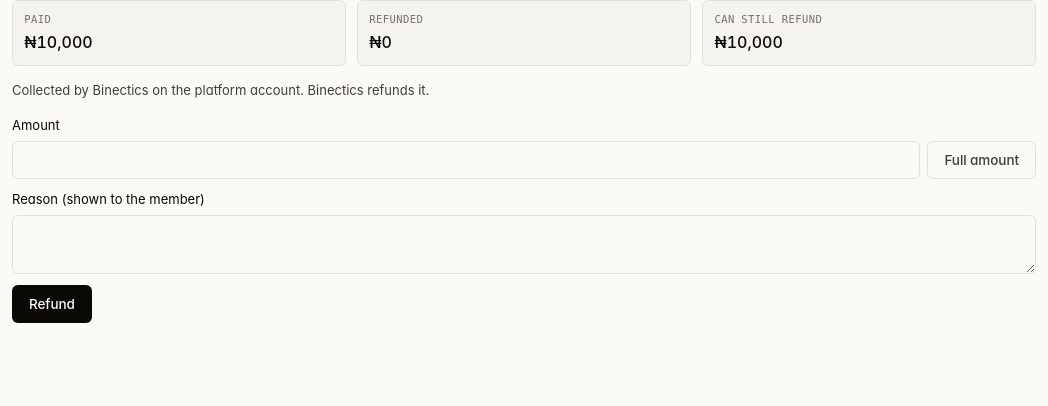
Test: ChargeRefundPanel: a direct refund asks first (owner ruling 6) › an admin refund of platform money sends without the provider's confirmation
Click the button "Full amount". click: [982, 160]
box: left=927, top=141, right=1036, bottom=179
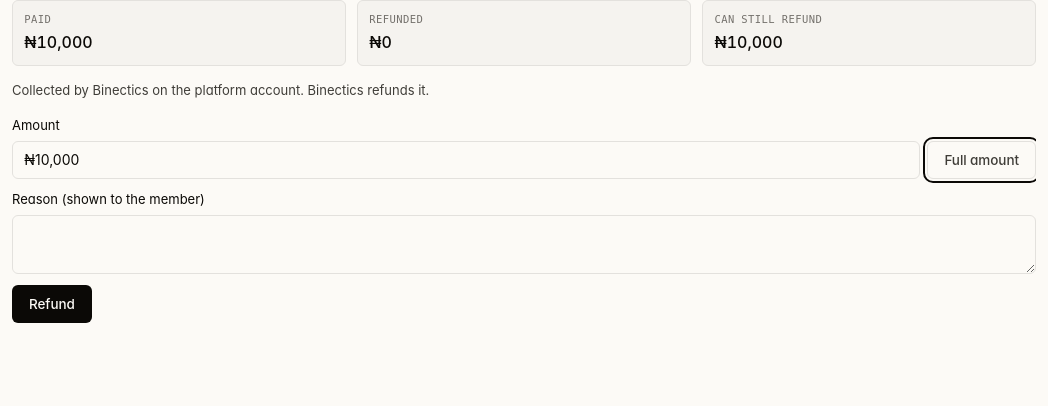
Double-click the button "Refund" at [52, 304], box left=12, top=285, right=92, bottom=323
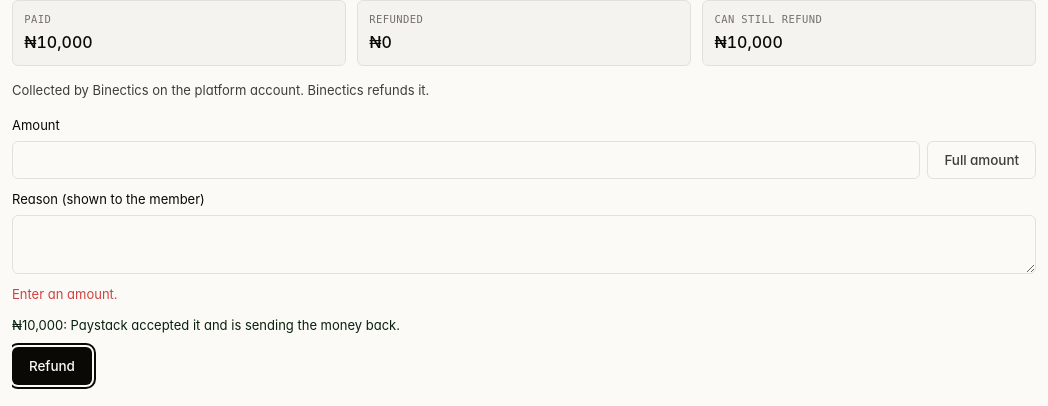
Expected: the message "₦10,000: Paystack accepted it and is sending the money back." is shown, left=12, top=317, right=400, bottom=333
